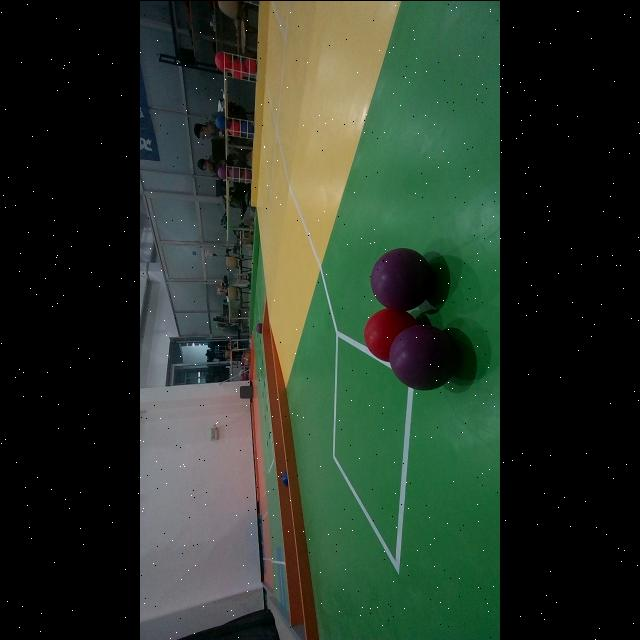P: (389, 324, 459, 388), (372, 247, 434, 309)
R: (364, 306, 418, 362)
S: (221, 51, 261, 80), (225, 116, 259, 140), (226, 162, 256, 184)
